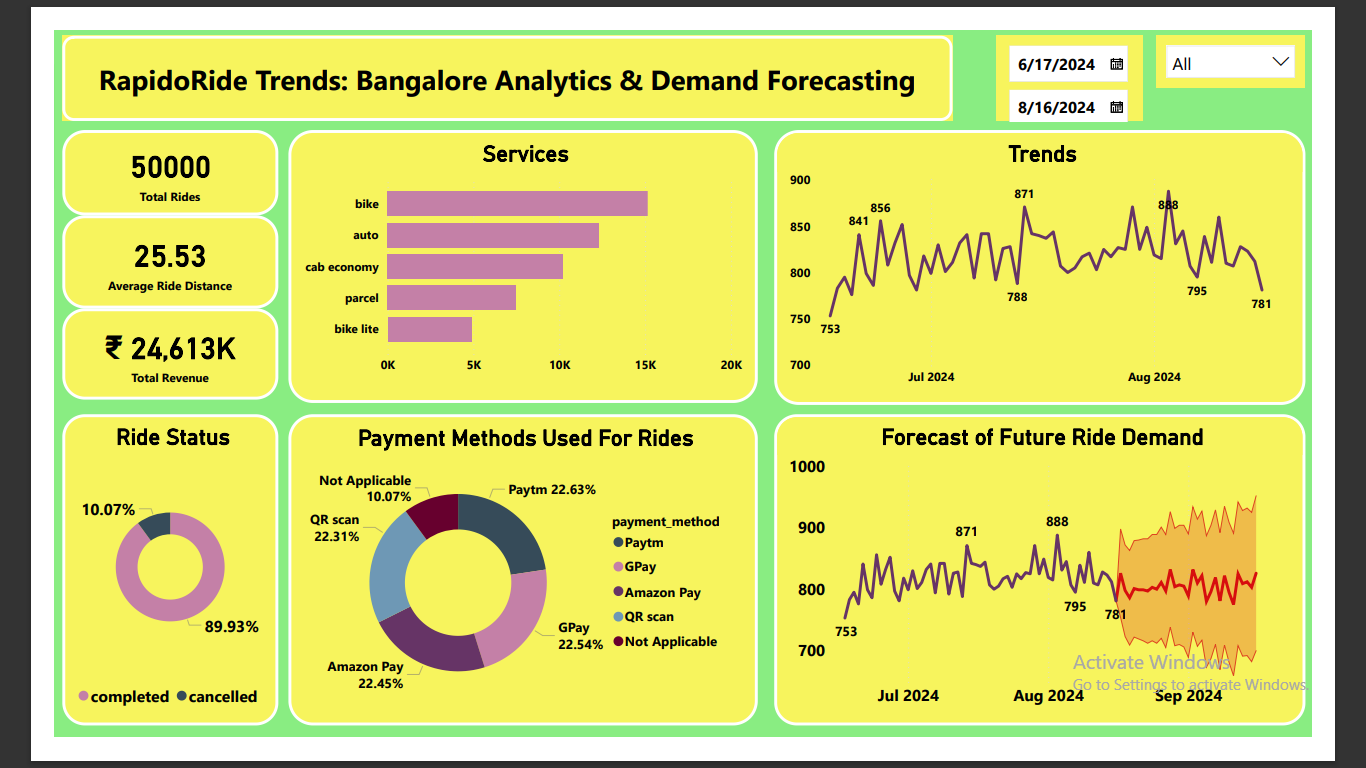

Layout of this report page (visuals, bound fields, positions):
{"tool":"tableau","page":{"name":"Dashboard 1","canvas":[1000,1000],"units":"permille","ordinal":0},"visuals":[{"type":"image","param":"Image/Rapido Bike Taxi.png","box":[2.5,4.5,85.2,162.1]},{"type":"text","box":[89.4,7.6,577.1,101.5]},{"type":"blank","box":[666.4,7.6,300.8,101.5]},{"type":"worksheet","title":" Total Revenue","mark":"Automatic","box":[723,15.2,161.5,86.4]},{"type":"worksheet","title":"Average Fare ","mark":"Automatic","box":[891,15.2,100.8,83.3]},{"type":"filter","title":"Service demand distribution","param":"[federated.14s9uic0qad2vq11qwo8j0dyh6p2].[none:services:nk]","box":[677.9,127.3,172.1,86.4]},{"type":"filter","title":"Service demand distribution","param":"[federated.14s9uic0qad2vq11qwo8j0dyh6p2].[none:ride_status:nk]","box":[857.4,127.3,139.3,84.9]},{"type":"blank","box":[2.5,166.7,85.2,692.4]},{"type":"worksheet","title":"Ride Status ","mark":"Pie","rows":["Calculation_954481666245550083","Calculation_954481666245578757"],"box":[280.3,224.2,182,356.1]},{"type":"worksheet","title":"Ride Over TIme","mark":"Line","rows":["ride_id"],"cols":["Calculation_954481666433507339"],"box":[472.1,224.2,375.4,354.6]},{"type":"worksheet","title":"Service demand distribution","mark":"Bar","rows":["services"],"cols":["ride_id"],"box":[6.6,225.8,263.9,354.6]},{"type":"worksheet","title":"Payment Method Distribution","mark":"Bar","rows":["payment_method"],"cols":["ride_id"],"box":[855.7,225.8,141,354.6]},{"type":"legend","title":"Service demand distribution","param":"[federated.14s9uic0qad2vq11qwo8j0dyh6p2].[none:ride_status:nk]","box":[189.3,439.4,91,87.9]},{"type":"worksheet","title":"Service Demand By Hour of Day ","mark":"Line","rows":["ride_id"],"cols":["datetime"],"box":[4.1,595.5,519.7,395.4]},{"type":"worksheet","title":"Total Fare Over Time","mark":"Line","rows":["total_fare"],"cols":["datetime"],"box":[530.3,595.5,464.8,395.4]},{"type":"blank","box":[2.5,859.1,85.2,134.8]}]}

Visuals, with their boxes on the dashboard's canvas, which has no fixed pixel size, in thousandths of its width and height (x1, y1, x2, y2). These are canvas units, not pixel positions in the 1366x768 screenshot, which may show the page scaled, cropped or inside an application window:
image: [2,4,88,167]
text: [89,8,666,109]
blank: [666,8,967,109]
" Total Revenue" worksheet: [723,15,884,102]
"Average Fare " worksheet: [891,15,992,98]
"Service demand distribution" filter: [678,127,850,214]
"Service demand distribution" filter: [857,127,997,212]
blank: [2,167,88,859]
"Ride Status " worksheet (Pie marks): [280,224,462,580]
"Ride Over TIme" worksheet (Line marks): [472,224,848,579]
"Service demand distribution" worksheet (Bar marks): [7,226,270,580]
"Payment Method Distribution" worksheet (Bar marks): [856,226,997,580]
"Service demand distribution" legend: [189,439,280,527]
"Service Demand By Hour of Day " worksheet (Line marks): [4,596,524,991]
"Total Fare Over Time" worksheet (Line marks): [530,596,995,991]
blank: [2,859,88,994]
